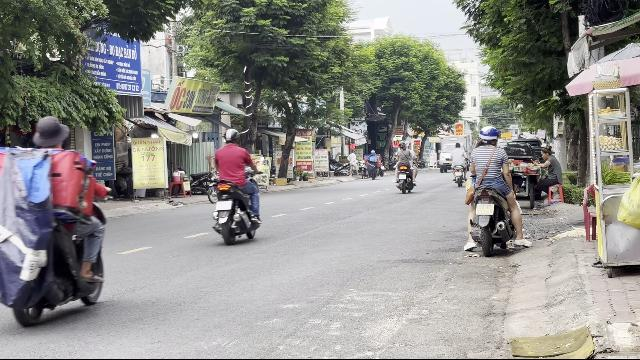helmet: (478, 125, 498, 145), (222, 127, 240, 144)
licenseplate: (476, 204, 494, 214), (216, 201, 232, 211)
motorcyclist: (0, 113, 112, 323), (461, 124, 525, 256), (209, 128, 261, 244)
nohelmet: (32, 116, 70, 150)
